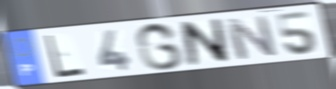4: (97, 28, 134, 73)
5: (273, 9, 319, 57)
G: (133, 21, 185, 72)
L: (43, 33, 88, 80)
N: (223, 14, 280, 62), (178, 17, 231, 67)
